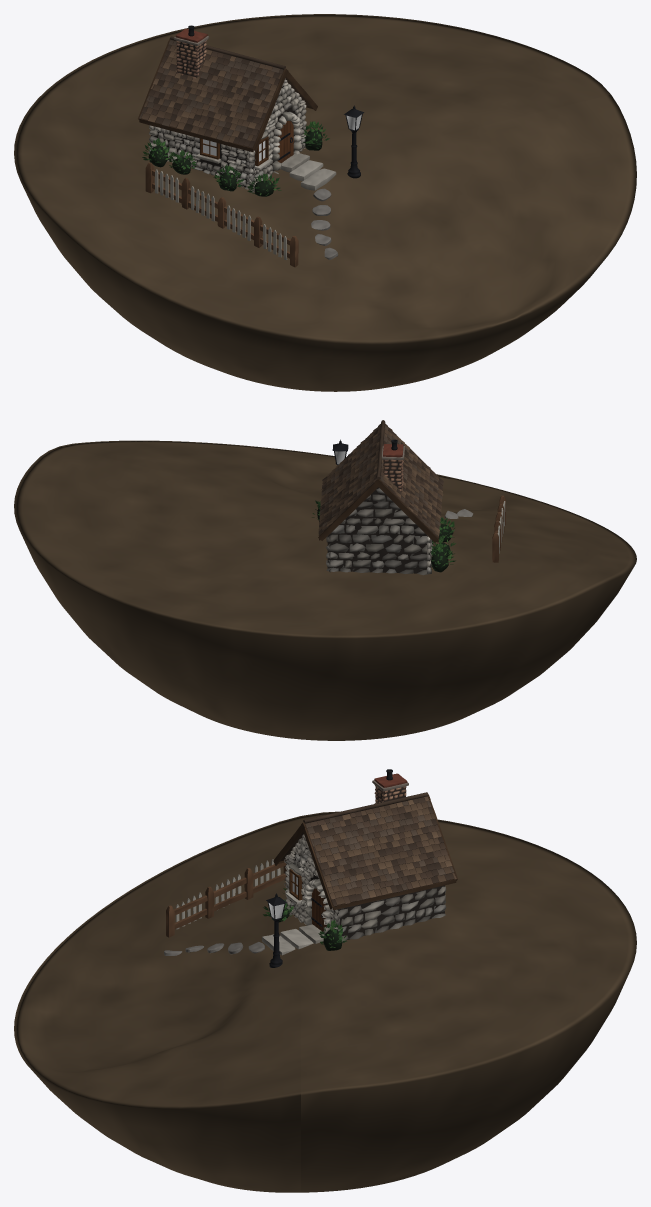
Rendered from village-model.glb.
The picture shows the model from 3 angles, top to bottom: view 1: azimuth 30°, elevation 25°; view 2: azimuth 150°, elevation 25°; view 3: azimuth 270°, elevation 25°; orthographic projection. The views are drawn at different scales.
Visible parts, largest first — view 1: ground, solid; view 2: ground, solid; view 3: ground, solid.
Boxes of the visible parts, box(x1,y1,x2,y2) form: ground: box(14, 14, 636, 391); solid: box(138, 25, 364, 267); ground: box(14, 440, 636, 740); solid: box(312, 420, 505, 575); ground: box(14, 811, 636, 1192); solid: box(164, 769, 457, 967).
Size of the model in its own units: 105 by 54.63 by 99.13.
